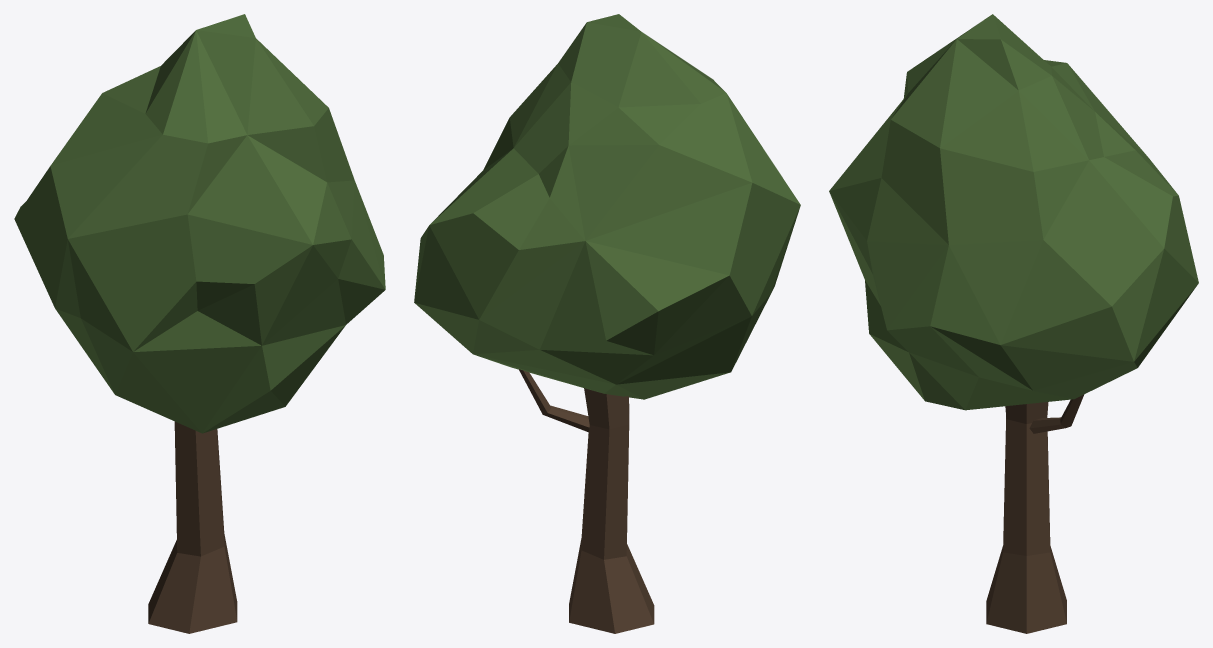
Rendered from SM_Envr_Nature_Farm_Tree_Plum_Young.fbx.
3 views of the same model, side by side, from view 1: azimuth 30°, elevation 25°; view 2: azimuth 150°, elevation 25°; view 3: azimuth 270°, elevation 25° (orthographic). The views are drawn at different scales.
Parts seen in each view (by area): view 1: SM_Envr_Nature_Farm_Tree_Plum_Young; view 2: SM_Envr_Nature_Farm_Tree_Plum_Young; view 3: SM_Envr_Nature_Farm_Tree_Plum_Young.
Part boxes in pixels (bbox=[...]): SM_Envr_Nature_Farm_Tree_Plum_Young: bbox=[14, 14, 385, 633]; SM_Envr_Nature_Farm_Tree_Plum_Young: bbox=[414, 14, 800, 633]; SM_Envr_Nature_Farm_Tree_Plum_Young: bbox=[829, 14, 1198, 633].
Bounding box in the file's own units: 326 × 587 × 332.
